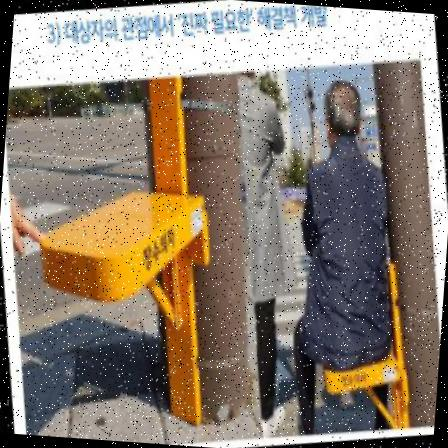silver: (250, 71, 428, 447)
